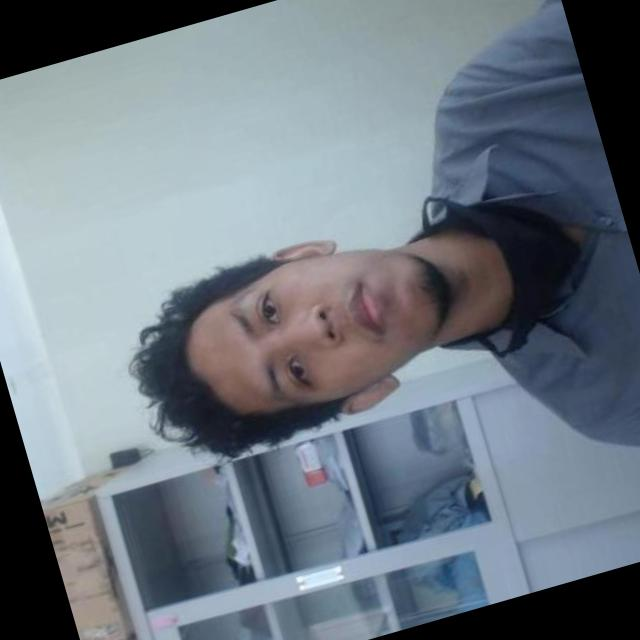bareface: (170, 215, 466, 450)
